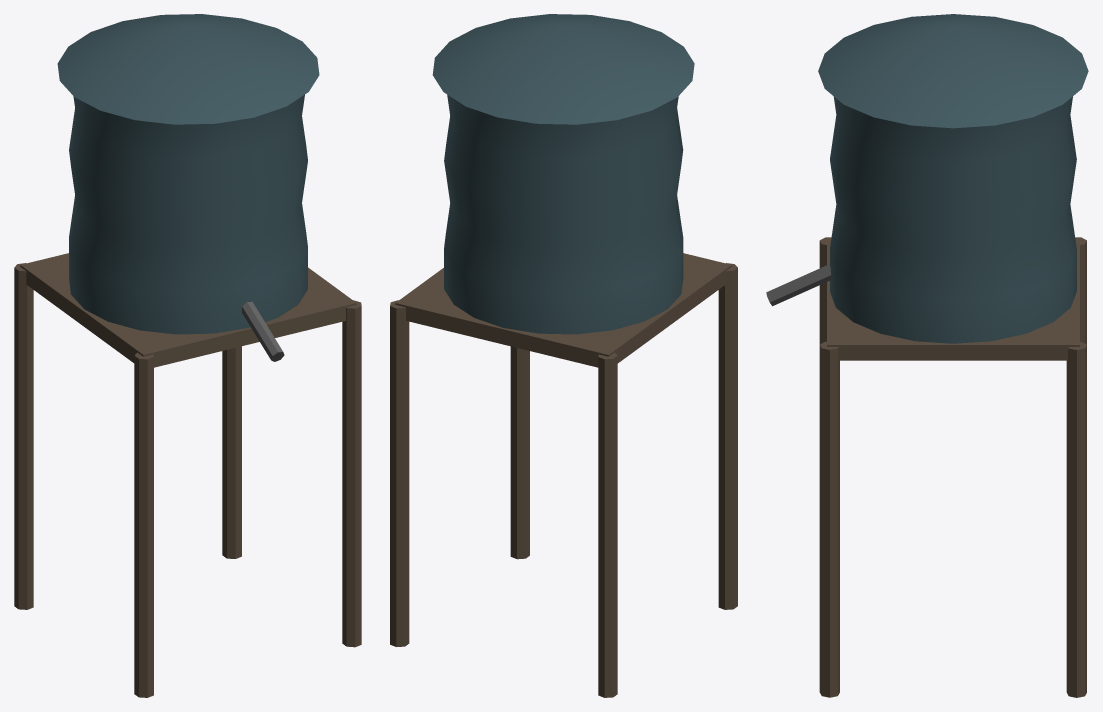
File: WaterTower.fbx
The picture shows the model from 3 angles, left to right: view 1: azimuth 30°, elevation 25°; view 2: azimuth 150°, elevation 25°; view 3: azimuth 270°, elevation 25°; orthographic projection. The views are drawn at different scales.
Visible parts, largest first — view 1: group18_pasted__group17_pasted__pasted__pCylinder5; view 2: group18_pasted__group17_pasted__pasted__pCylinder5; view 3: group18_pasted__group17_pasted__pasted__pCylinder5.
Boxes of the visible parts, bbox=[...] form: group18_pasted__group17_pasted__pasted__pCylinder5: bbox=[14, 14, 361, 697]; group18_pasted__group17_pasted__pasted__pCylinder5: bbox=[390, 14, 737, 697]; group18_pasted__group17_pasted__pasted__pCylinder5: bbox=[766, 14, 1088, 697].
Bounding box in the file's own units: 2.19 × 5.48 × 2.61.
